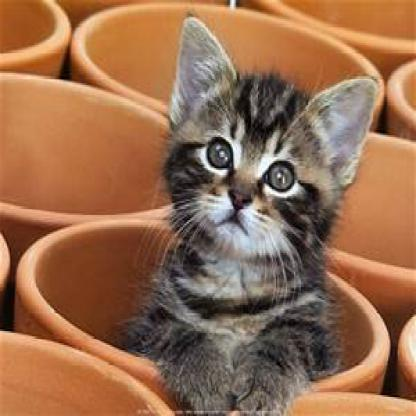cat: (136, 76, 380, 409)
